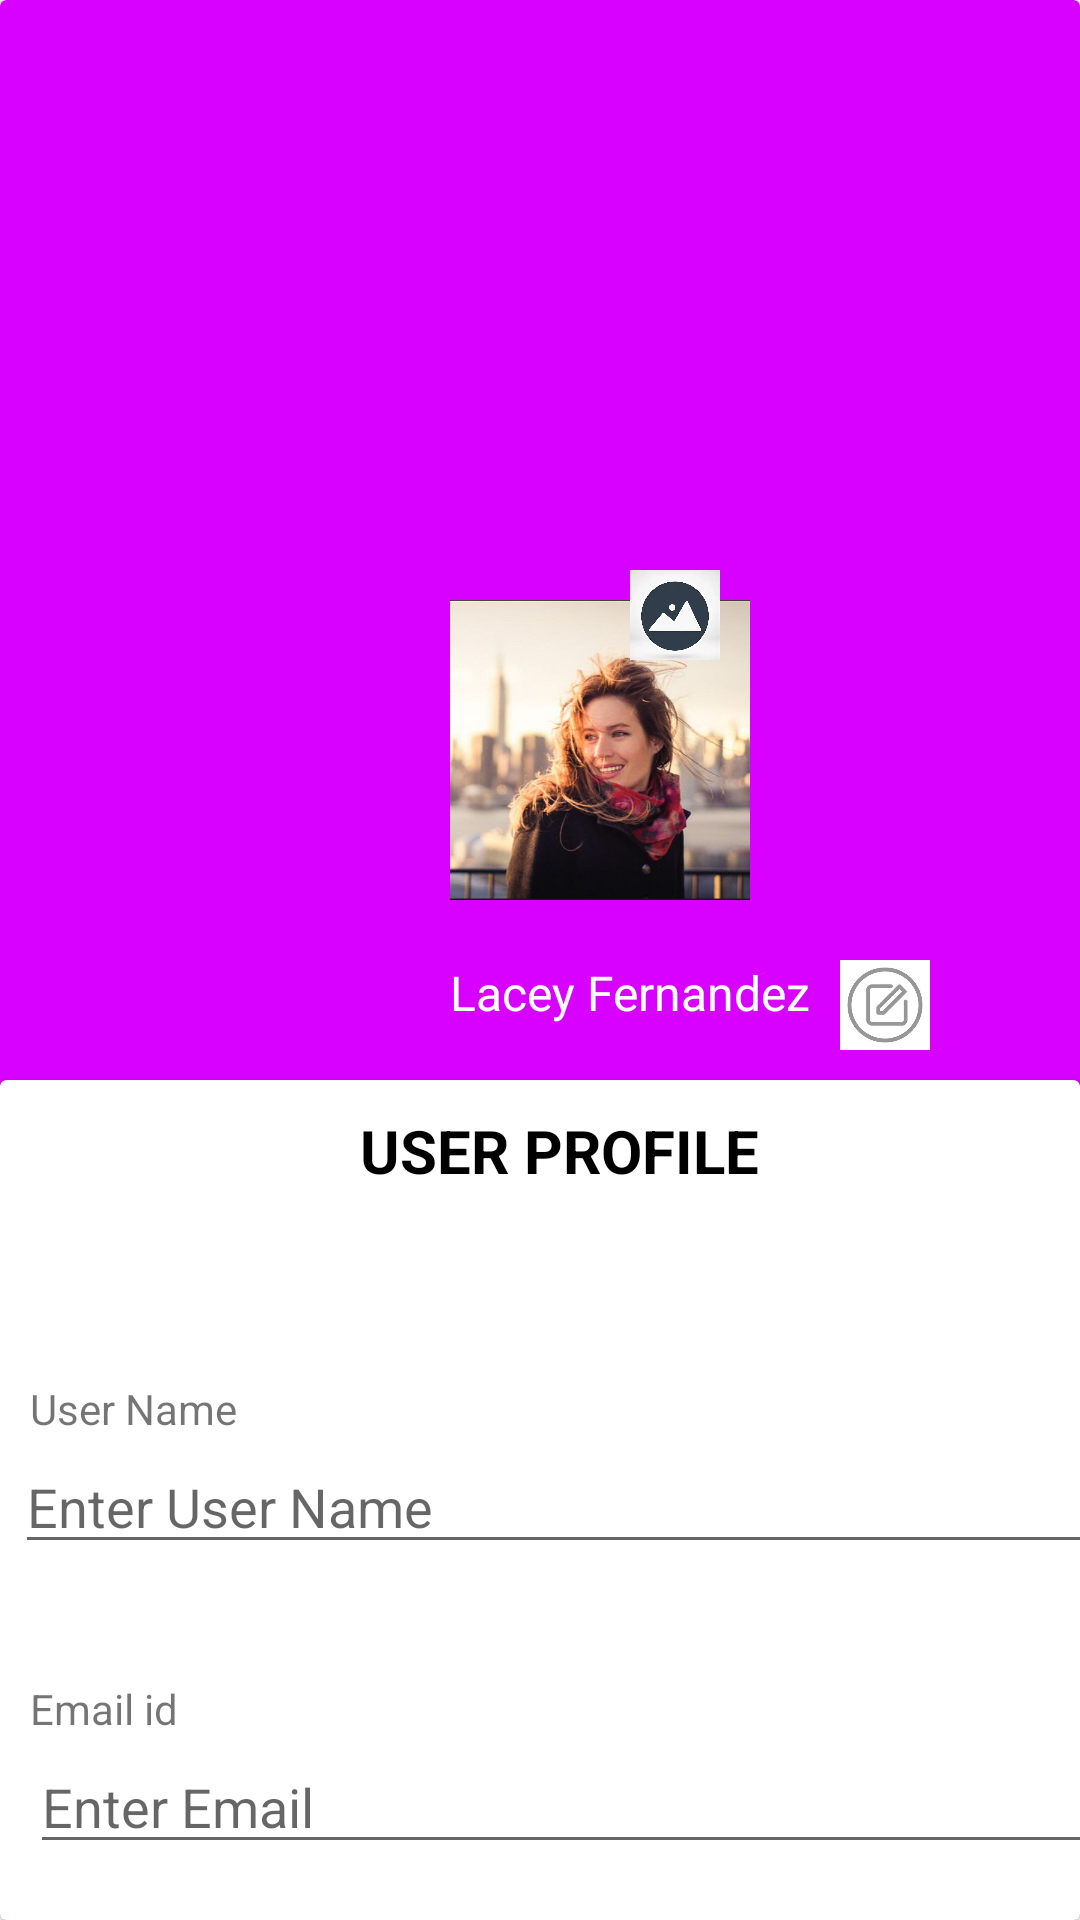

Named icons in this screenshot (1080x1920) and their centers, [x,y]:
photo: [600,750]
